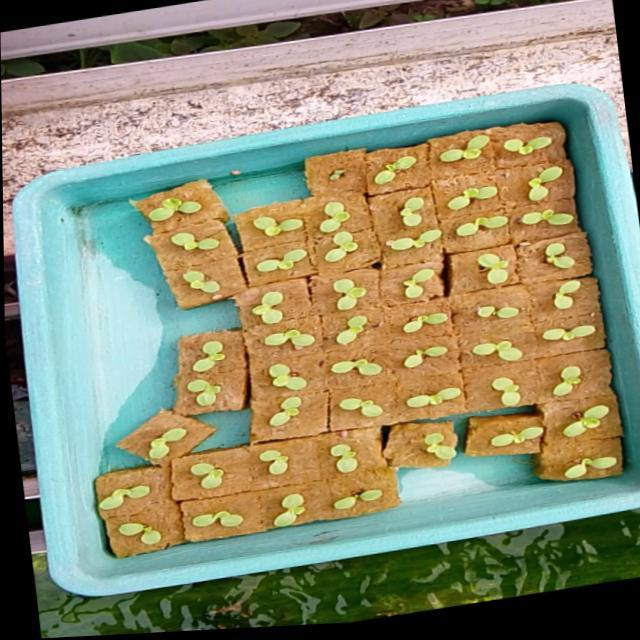Baby: (147, 418, 201, 462), (539, 364, 598, 403), (109, 517, 175, 551), (122, 484, 175, 519), (266, 325, 315, 357), (471, 294, 532, 319), (262, 246, 316, 274), (403, 266, 449, 298), (552, 232, 593, 267), (255, 364, 310, 390), (447, 131, 498, 159), (185, 509, 246, 531), (153, 198, 206, 223), (525, 202, 585, 224), (393, 227, 450, 249), (381, 154, 424, 183), (188, 379, 223, 414), (407, 345, 455, 369), (537, 164, 570, 198), (257, 291, 290, 325), (463, 214, 516, 235), (484, 250, 517, 283), (277, 493, 309, 527), (477, 340, 528, 361), (331, 230, 364, 262), (273, 396, 305, 428), (340, 279, 373, 310), (340, 315, 372, 345), (407, 312, 452, 333), (510, 134, 559, 153), (326, 202, 356, 233), (258, 214, 306, 233), (177, 233, 225, 252), (336, 358, 386, 376), (197, 462, 230, 489), (188, 271, 226, 294), (497, 377, 527, 406), (334, 444, 363, 474), (548, 325, 602, 341), (559, 278, 586, 308), (196, 341, 229, 365), (407, 194, 431, 225), (263, 451, 292, 476), (464, 184, 504, 202), (352, 398, 385, 417)
